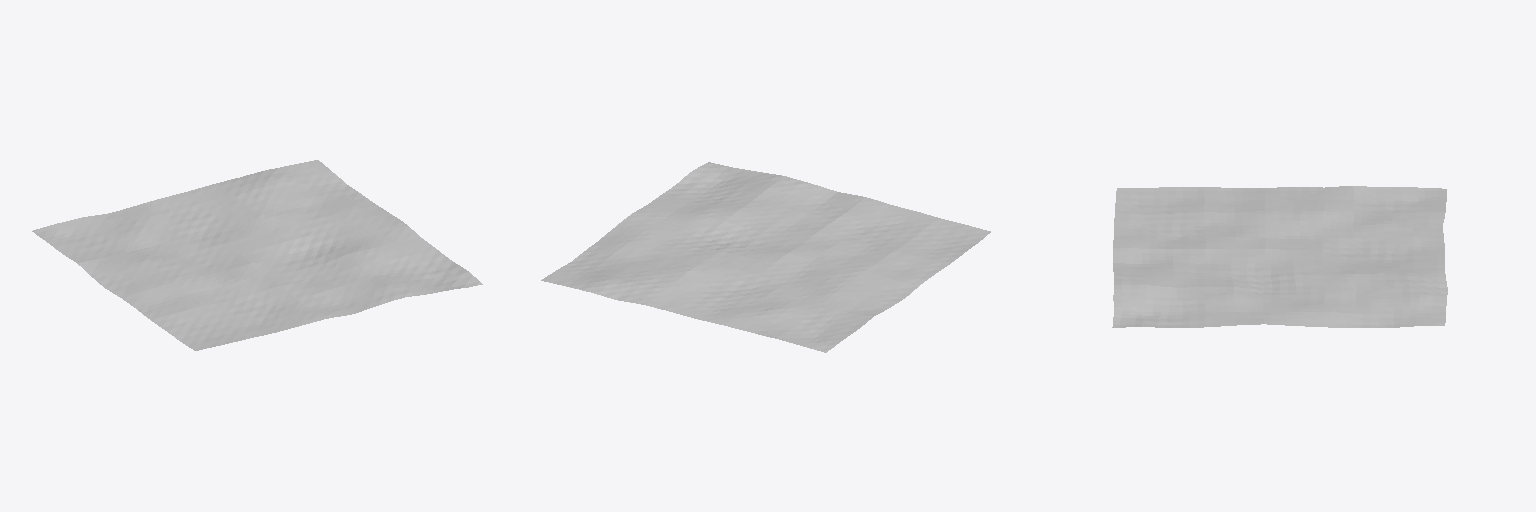
Rendered from sand.obj.
The picture shows the model from 3 angles: view 1: azimuth 30°, elevation 25°; view 2: azimuth 150°, elevation 25°; view 3: azimuth 270°, elevation 25°; orthographic projection.
Visible parts, largest first — view 1: Plane; view 2: Plane; view 3: Plane.
Boxes of the visible parts, <box> form: Plane: <box>32,160,482,350</box>; Plane: <box>541,162,990,352</box>; Plane: <box>1112,186,1447,327</box>.
Size of the model in its own units: 202 by 4.76 by 202.